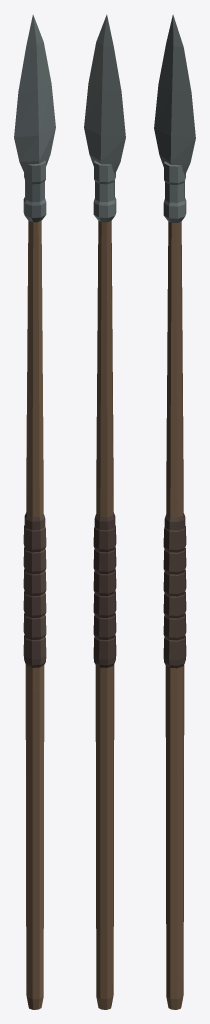
File: frontier_spear.glb
3 renders of one model, left to right at view 1: azimuth 30°, elevation 25°; view 2: azimuth 150°, elevation 25°; view 3: azimuth 330°, elevation 25°, orthographic.
Parts seen in each view (by area): view 1: Shaft, Faceted matte tip, Quiet grip bands, Dark socket; view 2: Shaft, Faceted matte tip, Quiet grip bands, Dark socket; view 3: Shaft, Faceted matte tip, Quiet grip bands, Dark socket.
Boxes of the visible parts, left/top/right/bottom form: Shaft: left=25, top=220, right=44, bottom=1009; Faceted matte tip: left=14, top=14, right=55, bottom=174; Quiet grip bands: left=23, top=512, right=46, bottom=667; Dark socket: left=23, top=160, right=46, bottom=222; Shaft: left=95, top=220, right=114, bottom=1009; Faceted matte tip: left=84, top=14, right=125, bottom=174; Quiet grip bands: left=93, top=512, right=116, bottom=667; Dark socket: left=93, top=160, right=116, bottom=222; Shaft: left=165, top=221, right=184, bottom=1009; Faceted matte tip: left=154, top=14, right=195, bottom=175; Quiet grip bands: left=163, top=513, right=186, bottom=668; Dark socket: left=163, top=161, right=186, bottom=222.
Size of the model in its own units: 0.086 by 1.94 by 0.042.
